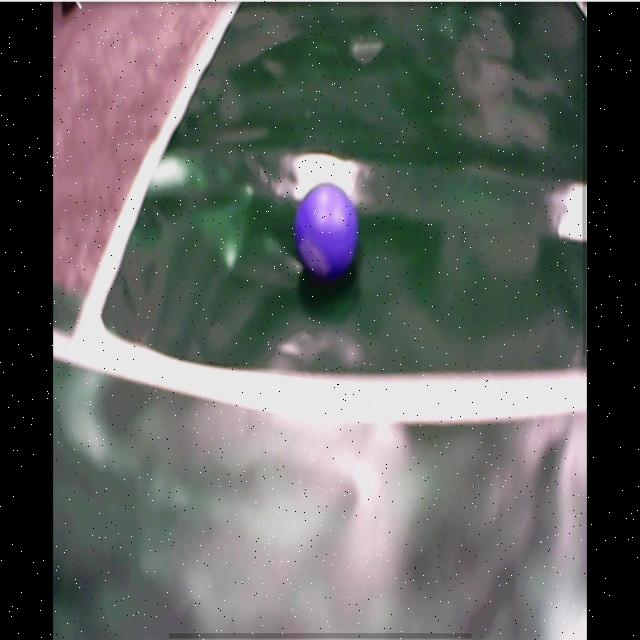ball: (296, 181, 358, 275)
